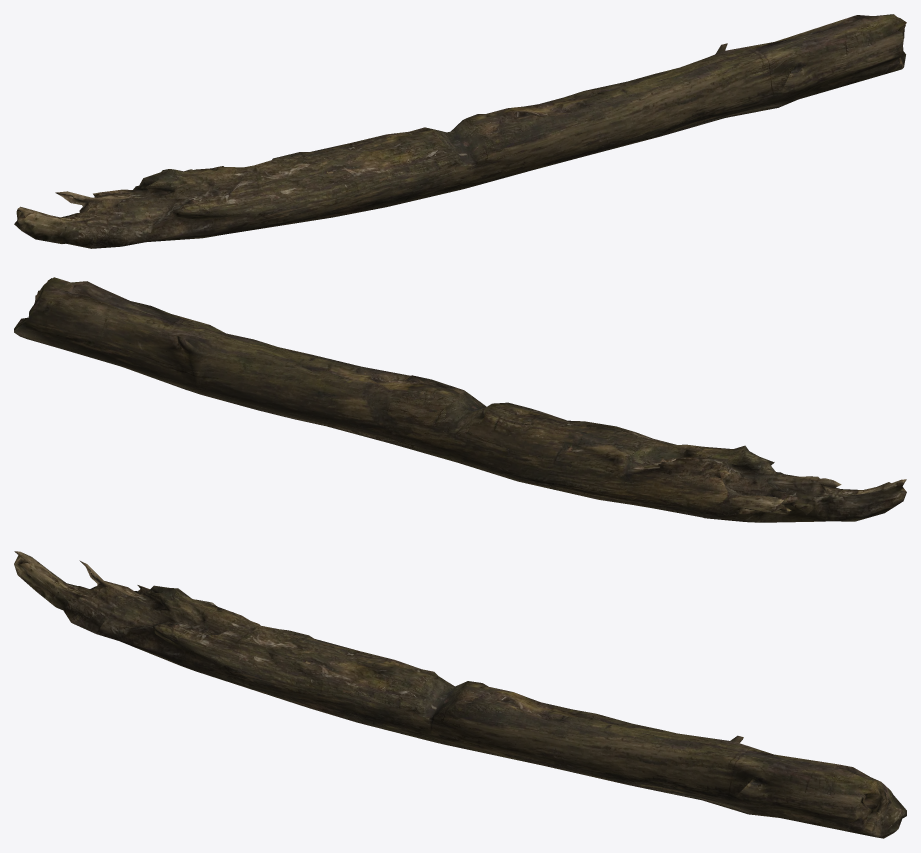
The model's file is ph_dead_tree_trunk_lod1.glb.
The picture shows the model from 3 angles, top to bottom: view 1: azimuth 30°, elevation 25°; view 2: azimuth 150°, elevation 25°; view 3: azimuth 330°, elevation 25°; orthographic projection.
Parts seen in each view (by area): view 1: dead_tree_trunk; view 2: dead_tree_trunk; view 3: dead_tree_trunk.
Part boxes in pixels (box(x1,y1,x2,y2)): dead_tree_trunk: box(14, 14, 906, 248); dead_tree_trunk: box(14, 277, 906, 522); dead_tree_trunk: box(14, 551, 906, 838).
Size of the model in its own units: 3.04 by 0.2847 by 0.2751.
Materials: 1 (1 with a texture image).
